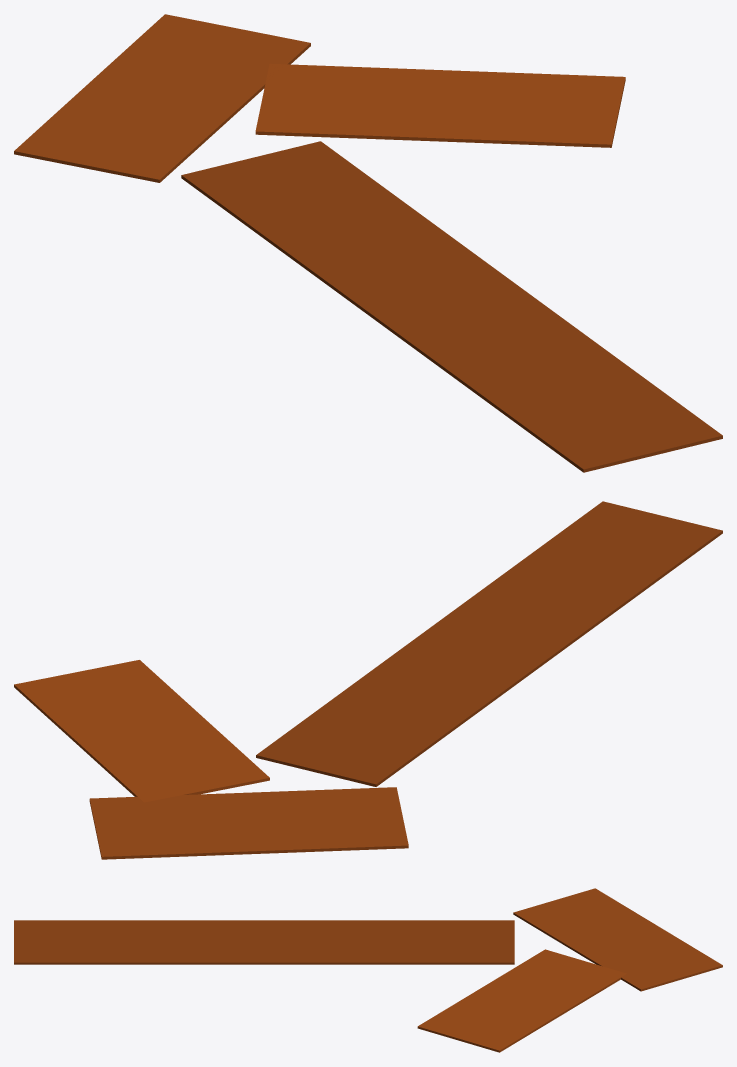
File: chalk_arrow.glb
3 views of the same model, one above another, from view 1: azimuth 30°, elevation 25°; view 2: azimuth 150°, elevation 25°; view 3: azimuth 270°, elevation 25° (orthographic). The views are drawn at different scales.
Parts seen in each view (by area): view 1: chalk_arrow; view 2: chalk_arrow; view 3: chalk_arrow.
Part boxes in pixels (x1,y1,x2,y2): chalk_arrow: (14, 14, 722, 472); chalk_arrow: (14, 501, 722, 859); chalk_arrow: (14, 888, 722, 1052).
Bounding box in the file's own units: 0.6909 × 0.006 × 1.27.
